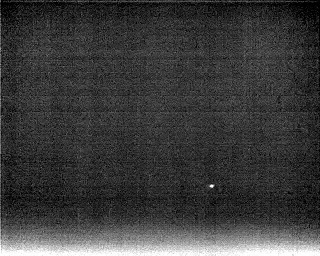BIRD: (207, 181, 217, 191)
